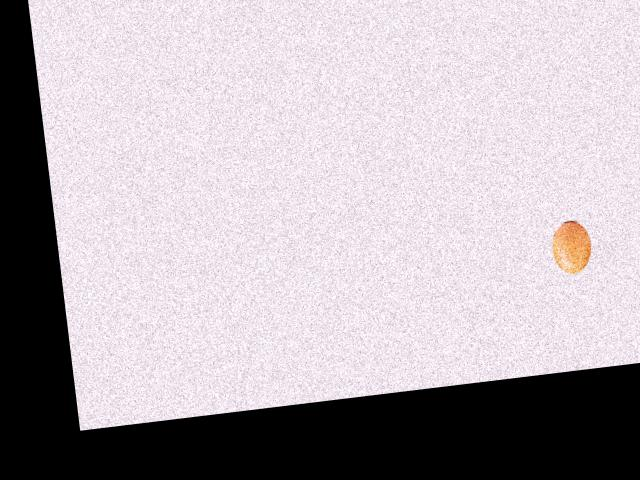egg: (550, 218, 594, 275)
